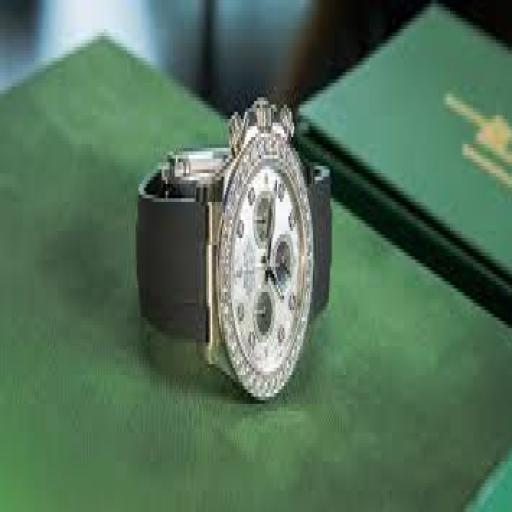KolSaati: (109, 93, 380, 426)
